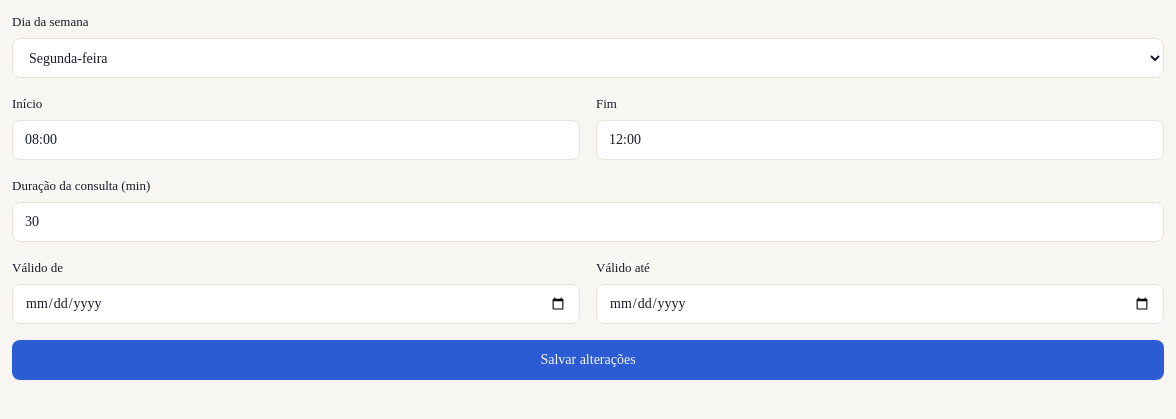
Test: ScheduleForm — edit mode › shows error when validUntil is before validFrom in edit mode
Expected: the dropdown with test id "schedule-form-day" shows "Segunda-feira", top-left (12, 38), bottom-right (1164, 78)
Type "2025-12-01" into the date field with test id "schedule-form-valid-from".
click(296, 304); type("2025-12-01")  # box top-left (12, 284), bottom-right (580, 324)
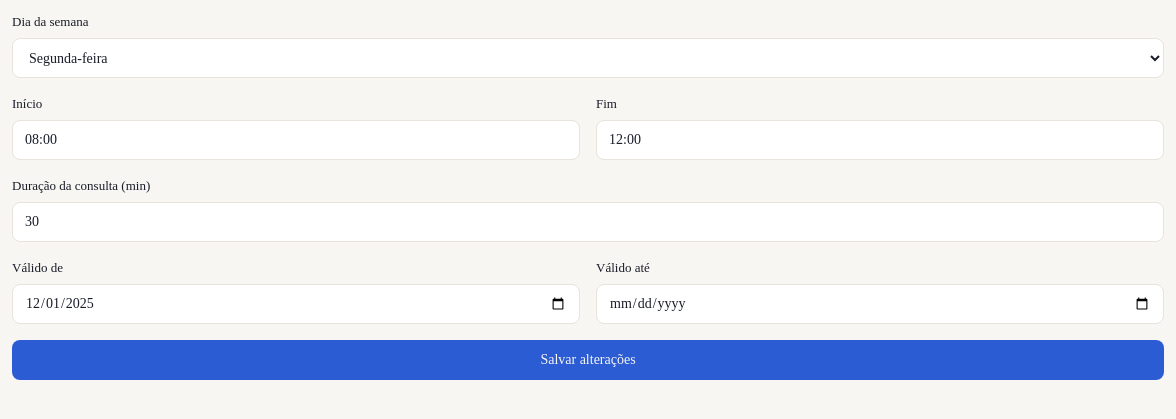
Type "2025-11-01" into the date field with test id "schedule-form-valid-until".
click(880, 304); type("2025-11-01")  # box top-left (596, 284), bottom-right (1164, 324)
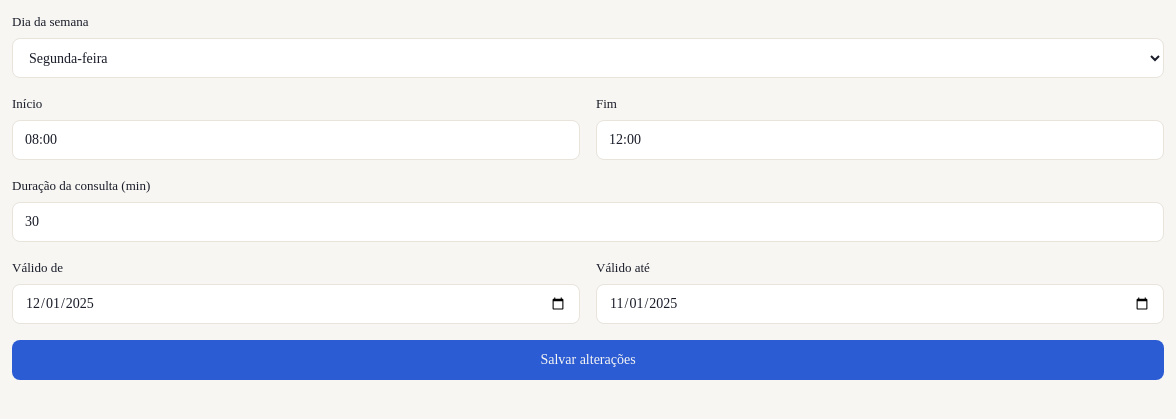
Click the button with test id "schedule-form-submit".
click(588, 360)  # box top-left (12, 340), bottom-right (1164, 380)
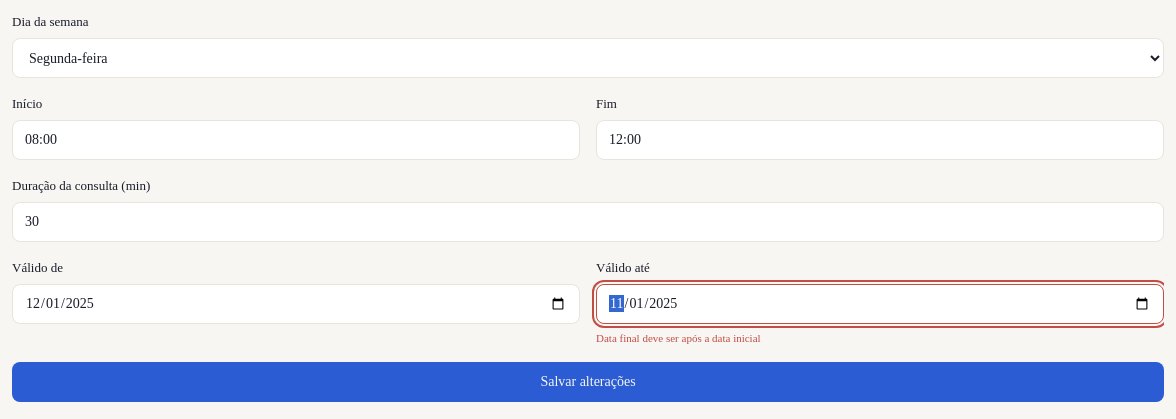
Expected: the text "Data final deve ser após a data inicial" is shown, top-left (596, 332), bottom-right (761, 344)
